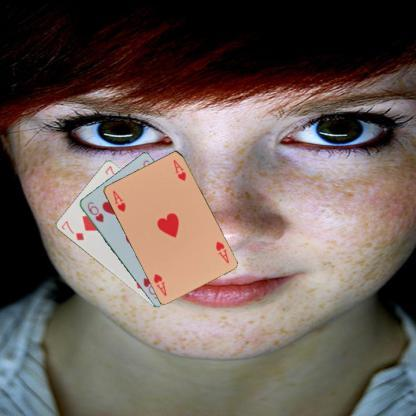6h: (84, 198, 104, 223)
7d: (58, 218, 85, 242)
Ah: (212, 238, 231, 264), (110, 188, 126, 214)
